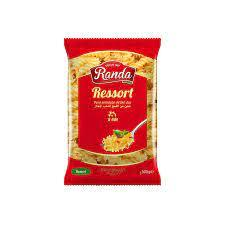Ressort: (64, 38, 161, 183)
